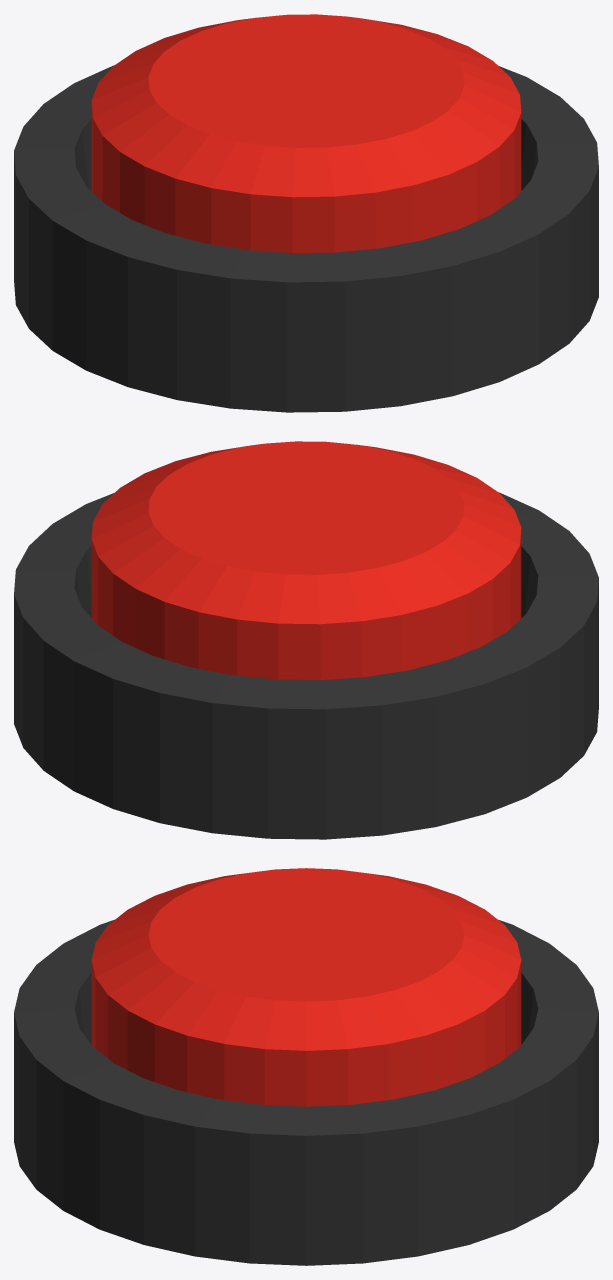
The model's file is dugme.fbx.
3 renders of one model, top to bottom at view 1: azimuth 30°, elevation 25°; view 2: azimuth 150°, elevation 25°; view 3: azimuth 270°, elevation 25°, orthographic.
Visible parts, largest first — view 1: Cylinder; view 2: Cylinder; view 3: Cylinder.
Part boxes in pixels (box(x1,y1,x2,y2)): Cylinder: box(14, 14, 598, 412); Cylinder: box(14, 441, 598, 839); Cylinder: box(14, 868, 598, 1265).
Bounding box in the file's own units: 216 × 89.07 × 216.
